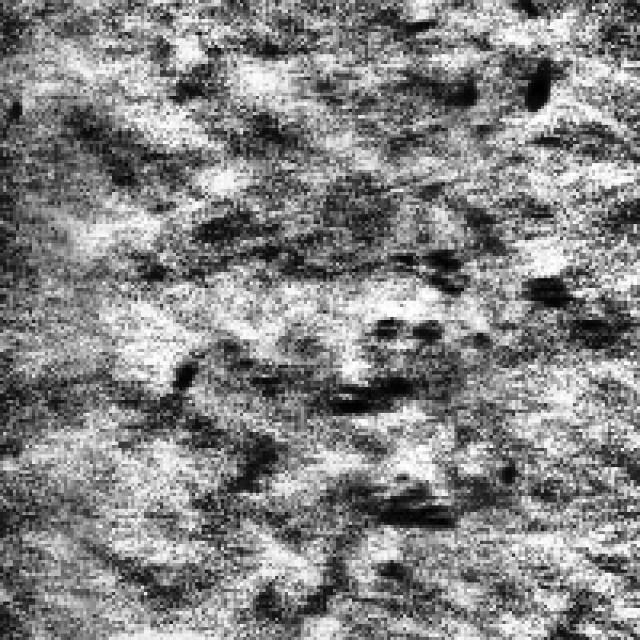Crazing: (330, 236, 480, 534)
